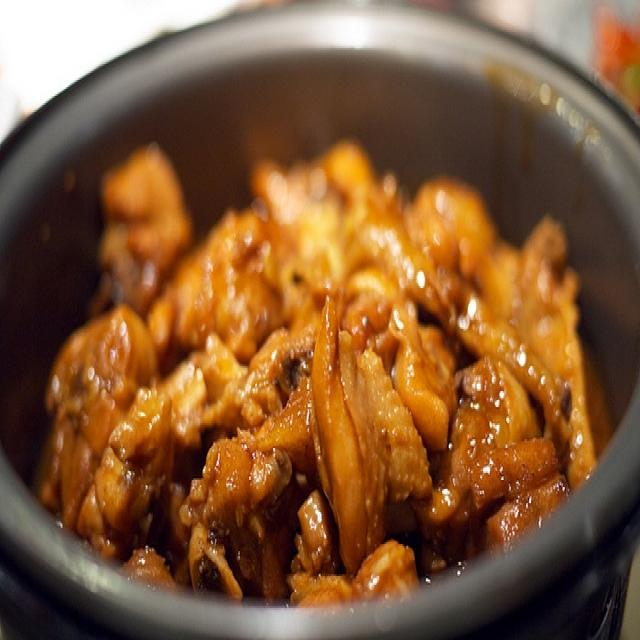鸡肉料理 含炸鸡: (20, 39, 610, 619)
